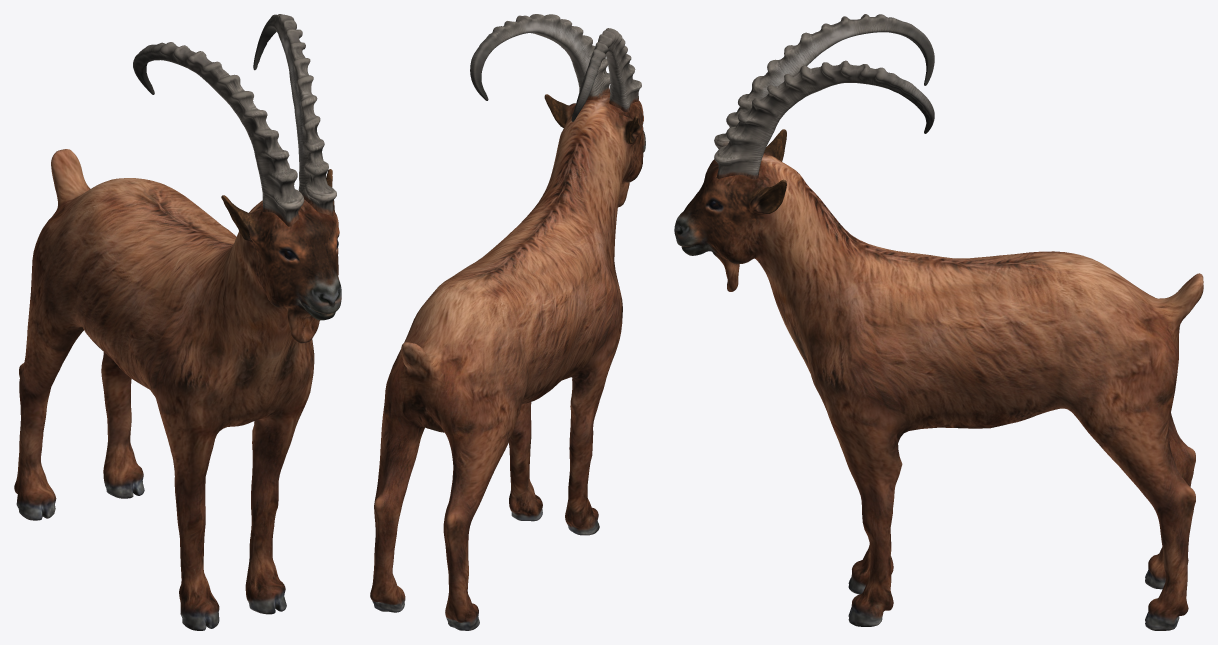
3 renders of one model, left to right at view 1: azimuth 30°, elevation 25°; view 2: azimuth 150°, elevation 25°; view 3: azimuth 270°, elevation 25°, orthographic. The views are drawn at different scales.
Parts seen in each view (by area): view 1: 13575_Ibex_v1_L1; view 2: 13575_Ibex_v1_L1; view 3: 13575_Ibex_v1_L1.
Part boxes in pixels (left/top/right/bottom): 13575_Ibex_v1_L1: left=14, top=14, right=341, bottom=630; 13575_Ibex_v1_L1: left=370, top=14, right=645, bottom=630; 13575_Ibex_v1_L1: left=674, top=14, right=1203, bottom=630.
Size of the model in its own units: 5.09 by 19.8 by 16.79.
Materials: 1 (1 with a texture image).
